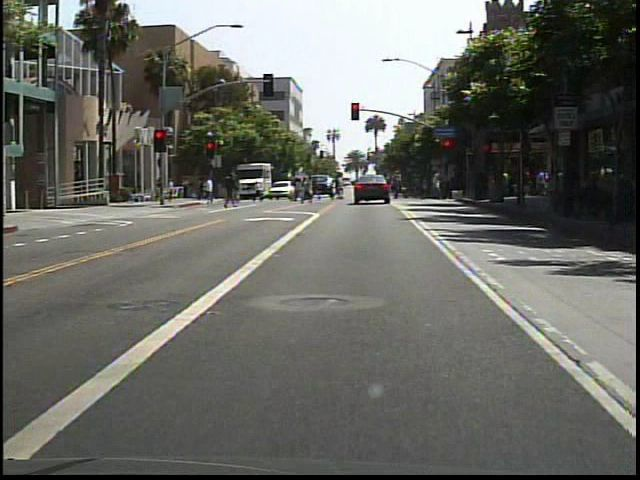person: (222, 172, 242, 211), (348, 167, 366, 208), (302, 173, 318, 206), (200, 178, 217, 209)
